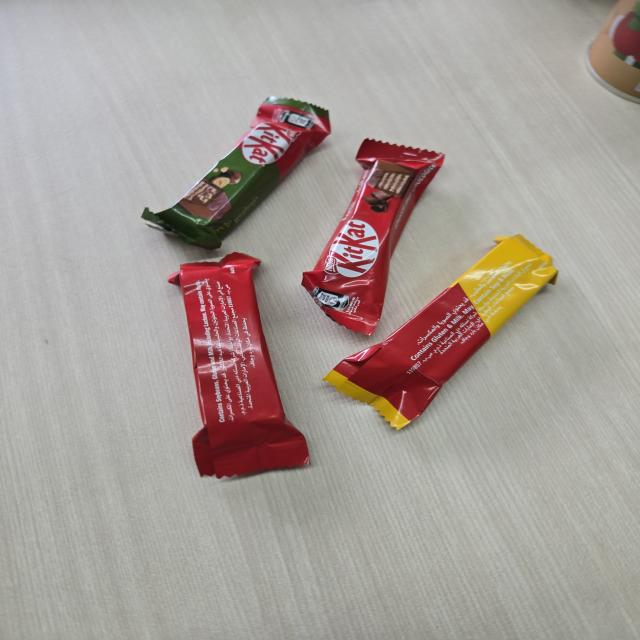chocolate-bar: (326, 230, 560, 434), (162, 246, 317, 492), (139, 87, 339, 255), (301, 132, 450, 342)
